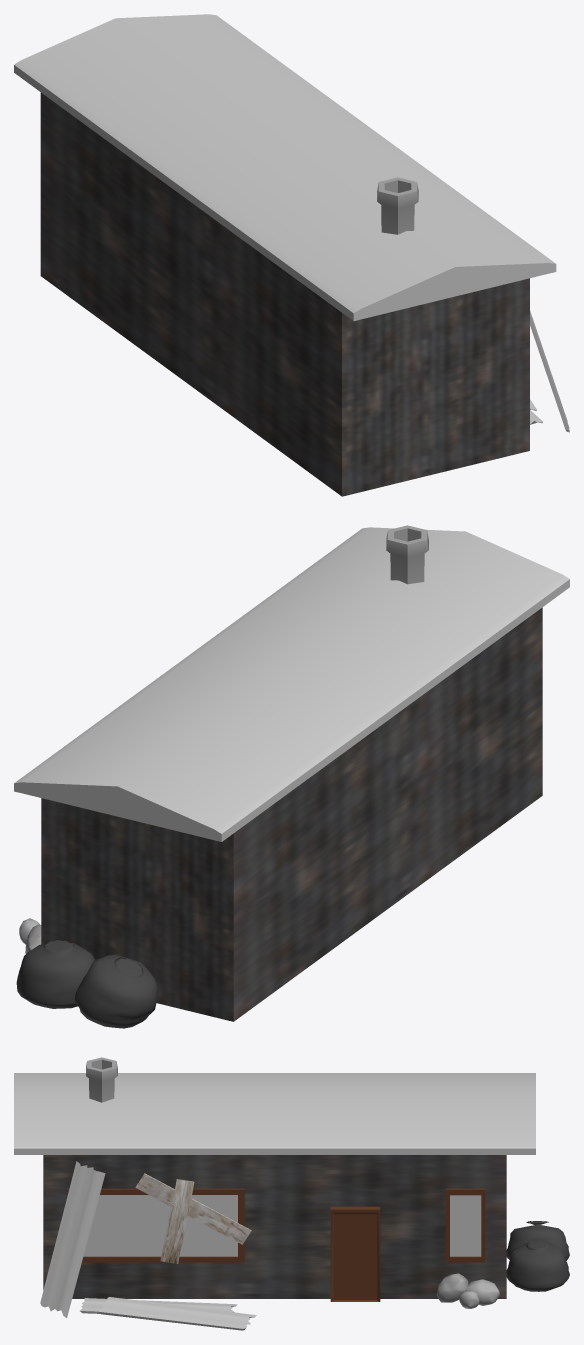
Rendered from hill billy house.fbx.
3 views of the same model, one above another, from view 1: azimuth 30°, elevation 25°; view 2: azimuth 150°, elevation 25°; view 3: azimuth 270°, elevation 25° (orthographic). The views are drawn at different scales.
Visible parts, largest first — view 1: pCube1, pCylinder1, pCube6; view 2: pCube1, pSphere5, pSphere4, pCylinder1; view 3: pCube1, pCube2, pCube4, pCube6, pCube3, pCube8, pSphere4, pCube9, pCube10, pSphere5, pCylinder1, pCube7 (+2 smaller).
Boxes of the visible parts, x1,y1,x2,y2 form: pCube1: (14,14,556,496); pCylinder1: (377,177,418,234); pCube6: (530,311,569,432); pCube1: (14,527,569,1021); pSphere5: (74,954,158,1028); pSphere4: (16,940,94,1008); pCylinder1: (386,525,428,584); pCube1: (14,1073,535,1298); pCube2: (67,1188,244,1262); pCube4: (330,1206,380,1301); pCube6: (40,1161,105,1317); pCube3: (445,1188,485,1262); pCube8: (98,1297,256,1330); pSphere4: (506,1240,569,1291); pCube9: (135,1173,251,1244); pCube10: (160,1179,194,1263); pSphere5: (506,1221,569,1260); pCylinder1: (86,1057,117,1102); pCube7: (80,1298,237,1313).
Bounding box in the file's own units: 8.07 × 7.34 × 18.01.
